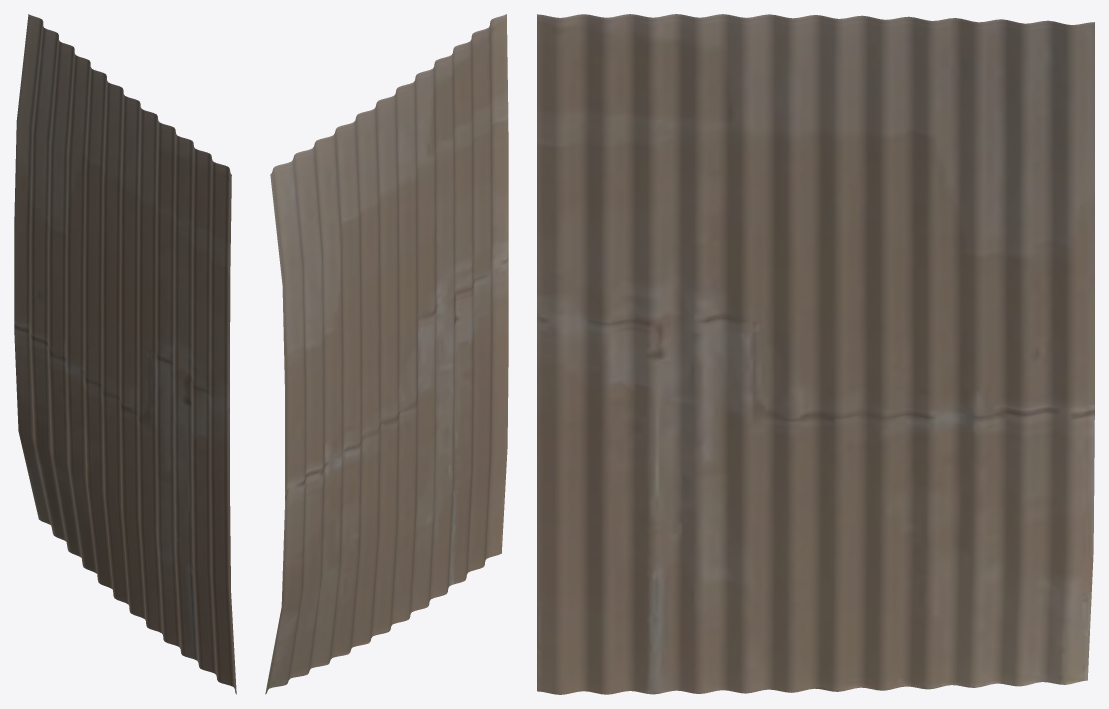
3 views of the same model, side by side, from view 1: azimuth 30°, elevation 25°; view 2: azimuth 150°, elevation 25°; view 3: azimuth 270°, elevation 25° (orthographic). The views are drawn at different scales.
Parts seen in each view (by area): view 1: body0_model0_lod0_mesh0; view 2: body0_model0_lod0_mesh0; view 3: body0_model0_lod0_mesh0.
Boxes of the visible parts, left/top/right/bottom form: body0_model0_lod0_mesh0: left=14, top=14, right=236, bottom=694; body0_model0_lod0_mesh0: left=265, top=14, right=508, bottom=694; body0_model0_lod0_mesh0: left=537, top=14, right=1094, bottom=694.
Size of the model in its own units: 6.78 by 128 by 96.
1 material, 1 textured.
